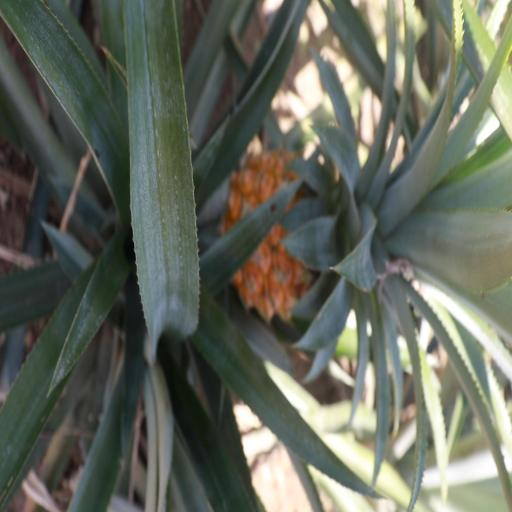Pineapple - v8 v1: (224, 137, 512, 321)
